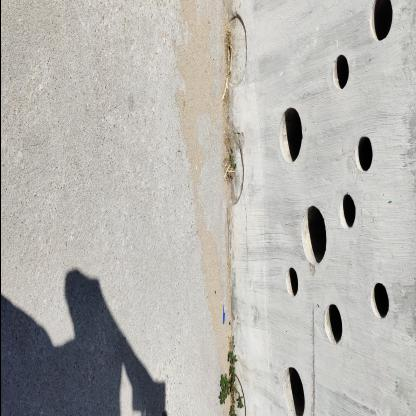plastik: (222, 304, 224, 324)
